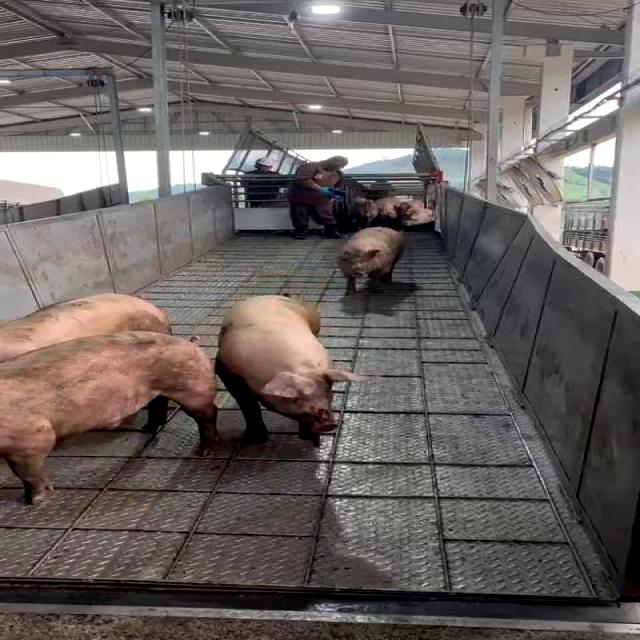pig: (0, 331, 218, 504), (215, 295, 367, 442), (0, 294, 171, 359), (339, 228, 403, 293)
